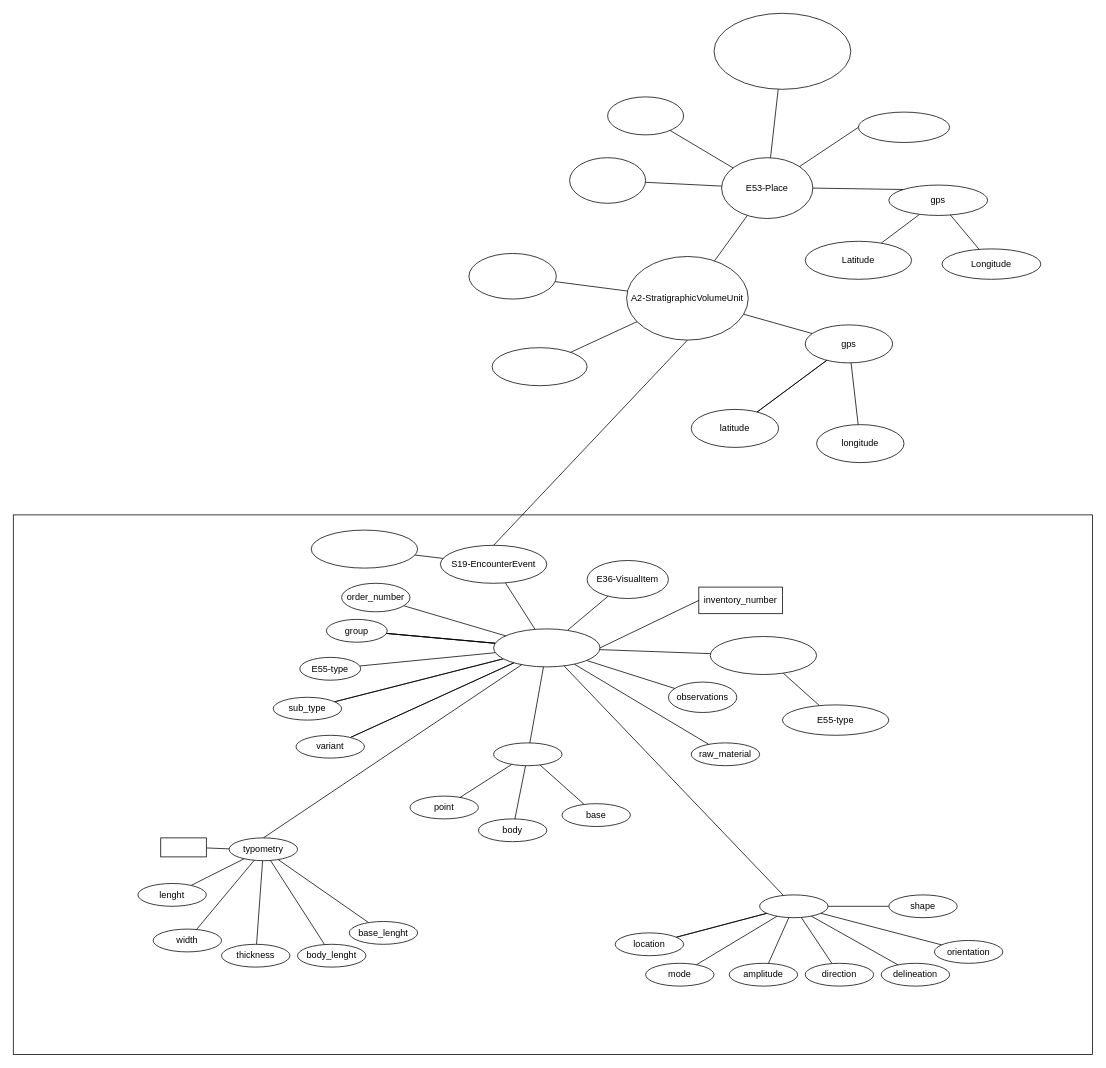
Image size: 1106x1068. Some labels were removed from this diagram. Here are the shapes that lost their labels. From the top down, the centre of each, then its label:
At [782,51]: "A9-ArchaeologicalExcavation".
At [645,115]: "district".
At [904,126]: "name".
At [607,180]: "parish".
At [512,276]: "timeline".
At [539,366]: "description".
At [364,548]: "date".
At [546,647]: "E24-PhysicalManThing".
At [763,655]: "E3-ConditionState".
At [527,754]: "morphology".
At [183,847]: "unit".
At [793,906]: "retouch".
